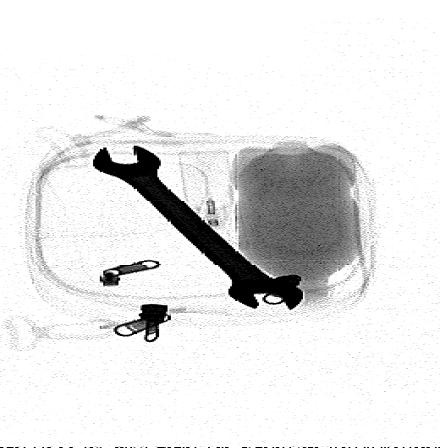Wrench: (92, 144, 306, 311)
